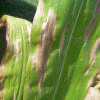Corn leaf blight: (27, 0, 99, 97), (1, 12, 28, 99)
